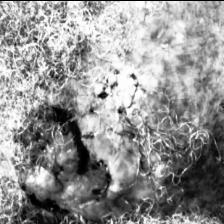Potentially Malignant Skin Tumors: (11, 94, 121, 218)
